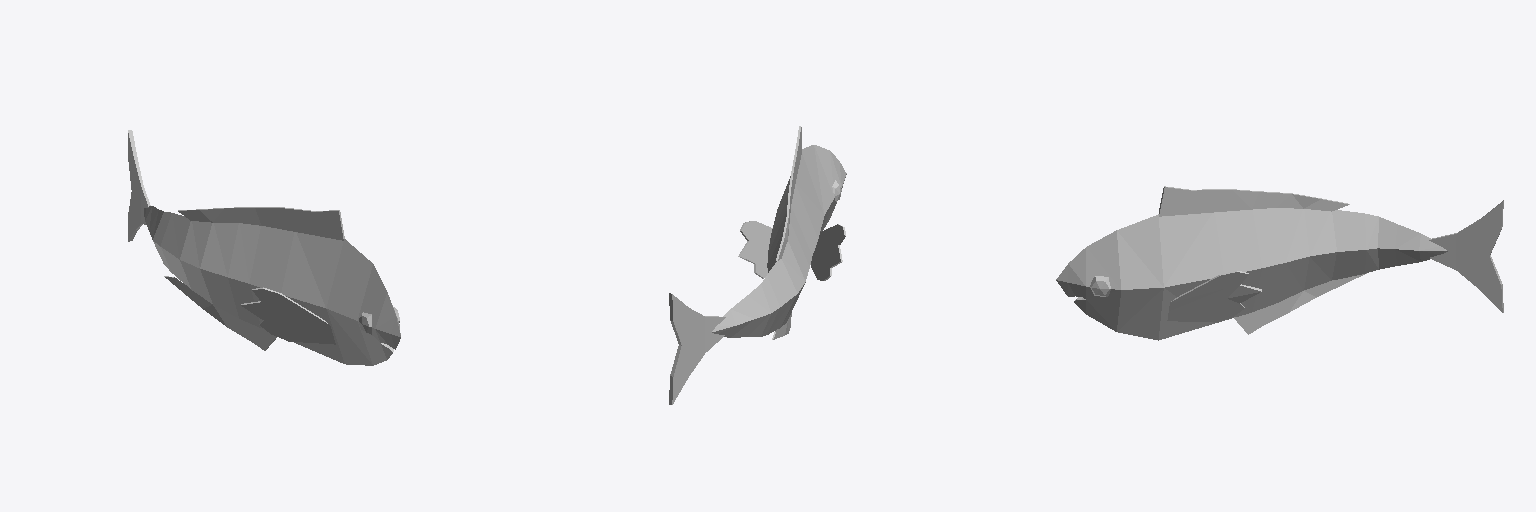
The model's file is FishLeft.obj.
3 renders of one model, left to right at view 1: azimuth 30°, elevation 25°; view 2: azimuth 150°, elevation 25°; view 3: azimuth 270°, elevation 25°, orthographic.
Parts seen in each view (by area): view 1: Plane.001_Plane.008; view 2: Plane.001_Plane.008; view 3: Plane.001_Plane.008.
Part boxes in pixels (x1,y1,x2,y2): Plane.001_Plane.008: (128, 130, 400, 365); Plane.001_Plane.008: (669, 126, 846, 404); Plane.001_Plane.008: (1056, 186, 1503, 340).
Size of the model in its own units: 2.15 by 3.12 by 7.73.